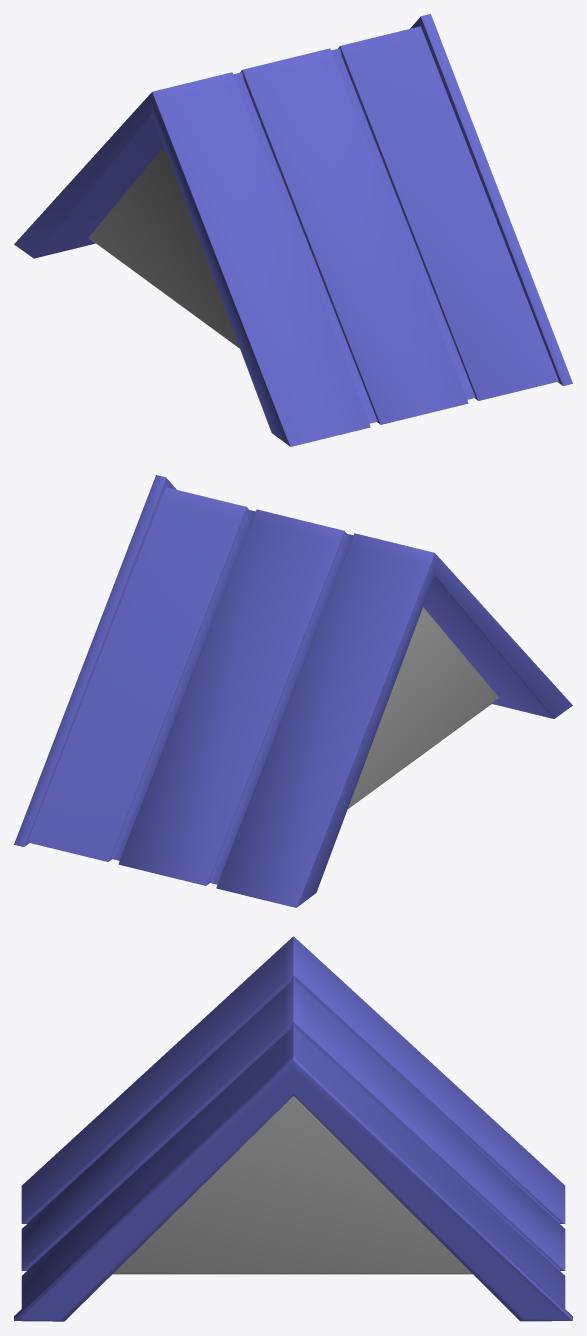
The model's file is FM_H_SH_01_Balcony_001.fbx.
The picture shows the model from 3 angles, top to bottom: view 1: azimuth 30°, elevation 25°; view 2: azimuth 150°, elevation 25°; view 3: azimuth 270°, elevation 25°; orthographic projection.
Parts seen in each view (by area): view 1: FM_H_SH_01_Balcony_001; view 2: FM_H_SH_01_Balcony_001; view 3: FM_H_SH_01_Balcony_001.
Part boxes in pixels (x1=…): FM_H_SH_01_Balcony_001: x1=14, y1=14, x2=572, y2=446; FM_H_SH_01_Balcony_001: x1=14, y1=475, x2=572, y2=907; FM_H_SH_01_Balcony_001: x1=14, y1=936, x2=572, y2=1321.
Bounding box in the file's own units: 3.29 × 3 × 5.81.
